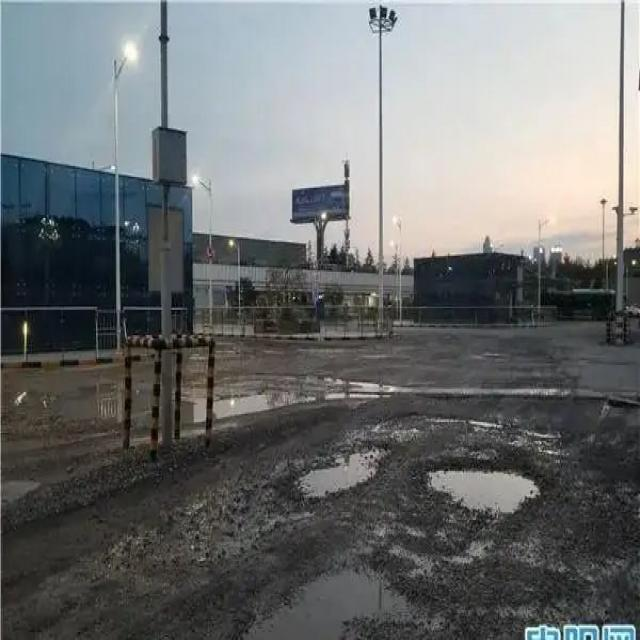Pothole: (424, 458, 545, 518), (288, 439, 389, 501)
